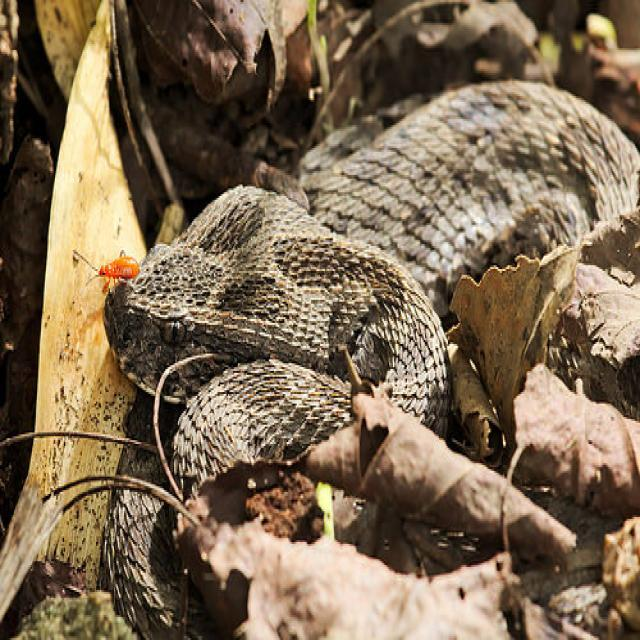Snake: (98, 75, 638, 636)
